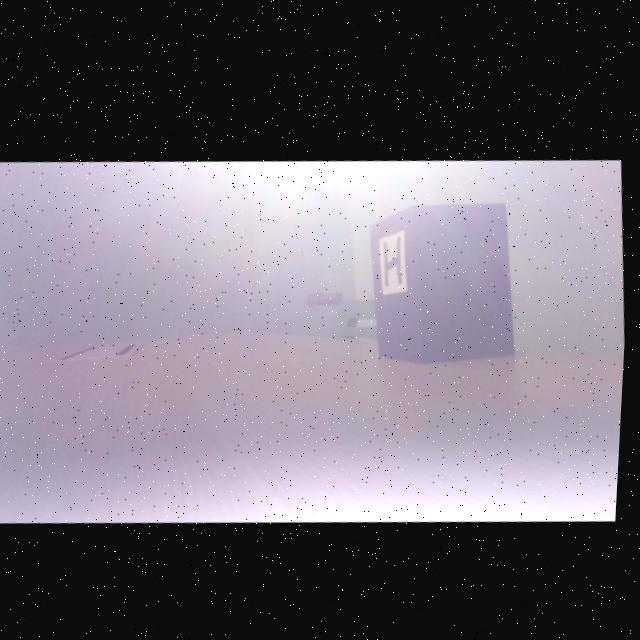H: (386, 231, 404, 281)
